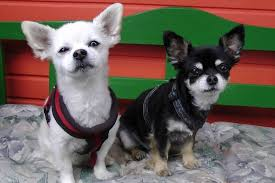Bulldog: (15, 4, 129, 181), (128, 18, 252, 176)
